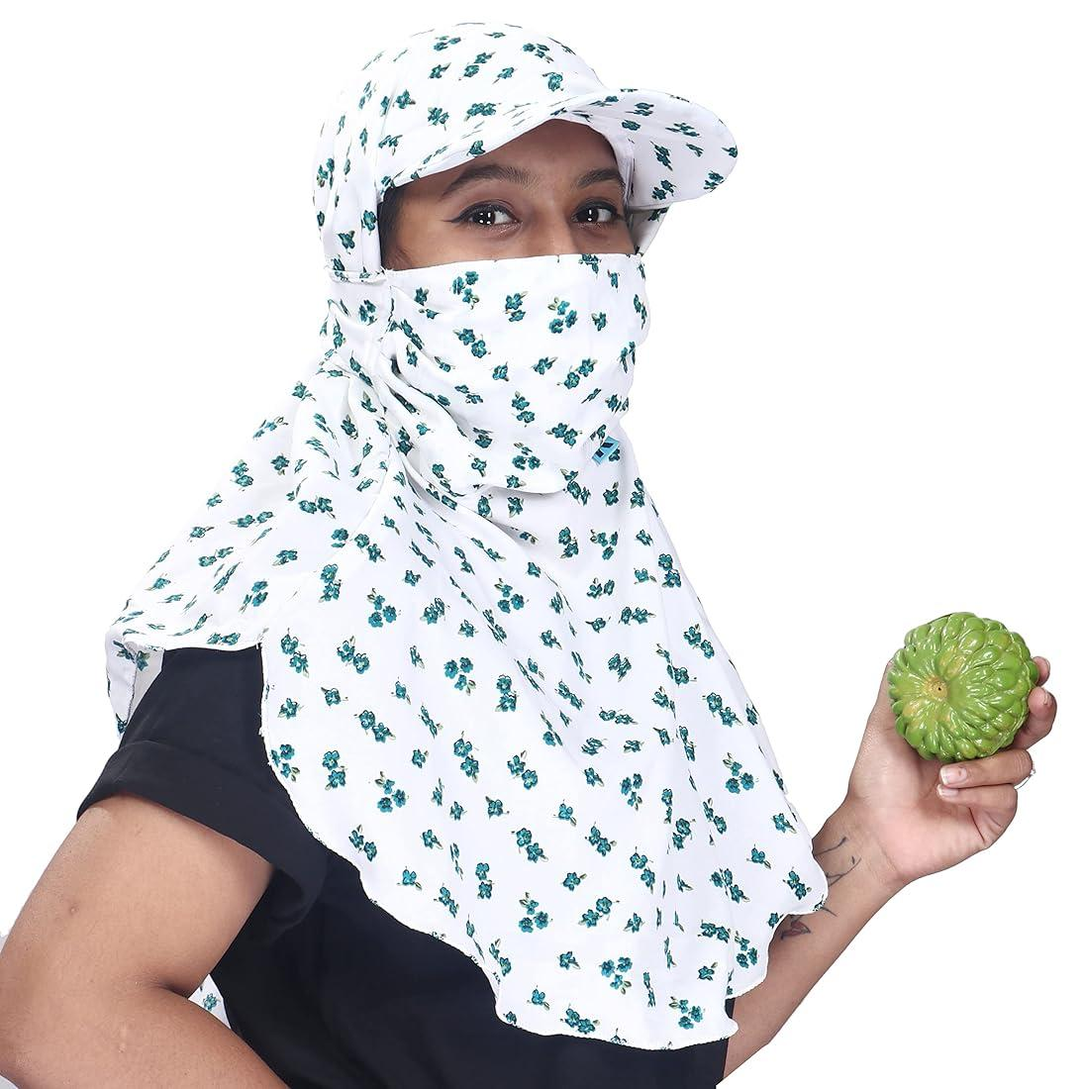cap: (287, 10, 799, 198)
scarf-kerchief: (297, 228, 809, 1079)
